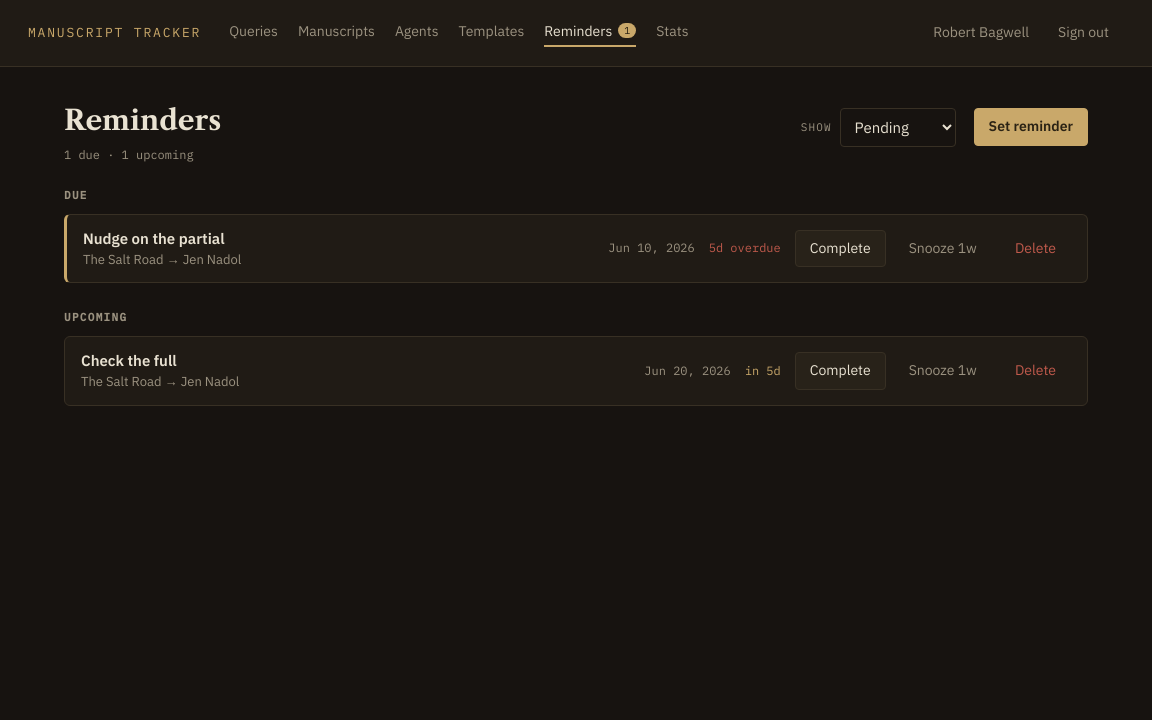
RemindersPage › snoozing an overdue reminder pushes it a week from today
Expected: the heading "Due" is shown, [64,188,88,202]
What coordinates should you click on to do the following:
click the button "Snooze 1w" in the row of "Nudge on the partial"
I would click on:
 (943, 248)
Its box is [894,230,992,267].
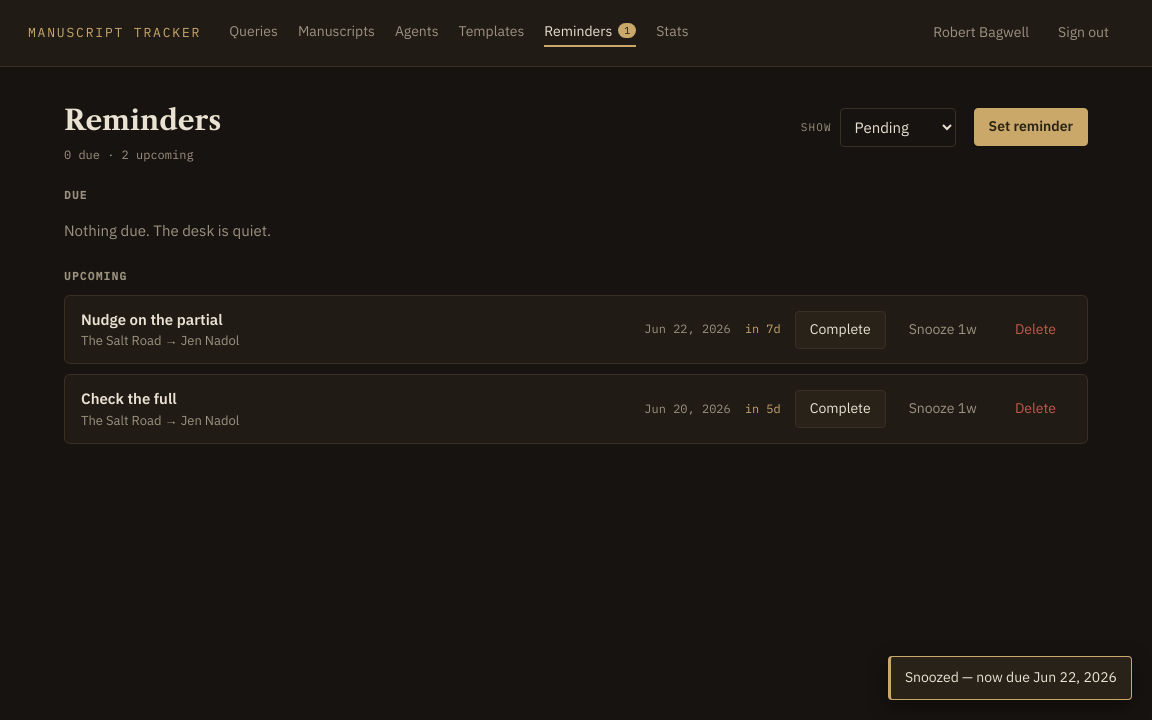
Expected: the text "Nudge on the partial" is shown, [81,310,223,329]
Expected: the text "Snoozed — now due Jun 22, 2026" is shown, [888,656,1132,700]
Expected: the text "0 due · 2 upcoming" is shown, [64,147,194,162]
